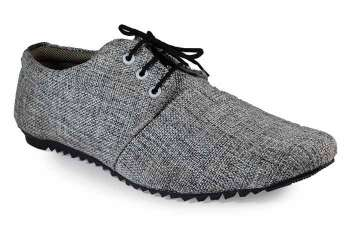Footwear: (11, 23, 341, 204)
